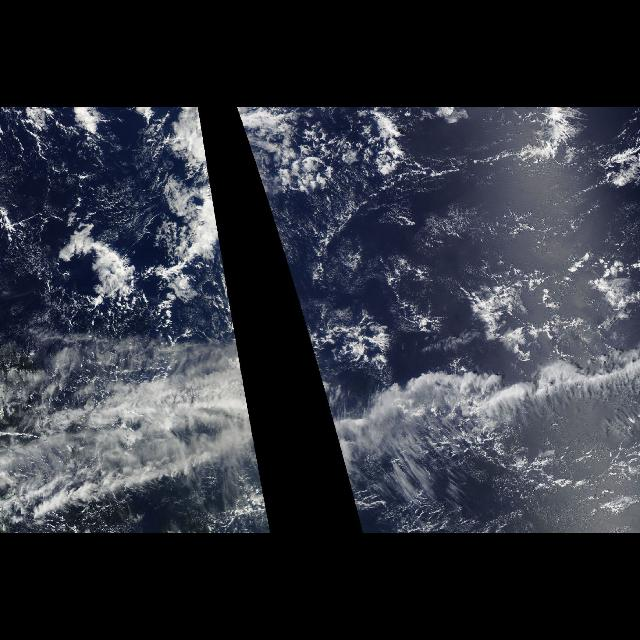Fish: (445, 338, 633, 442)
